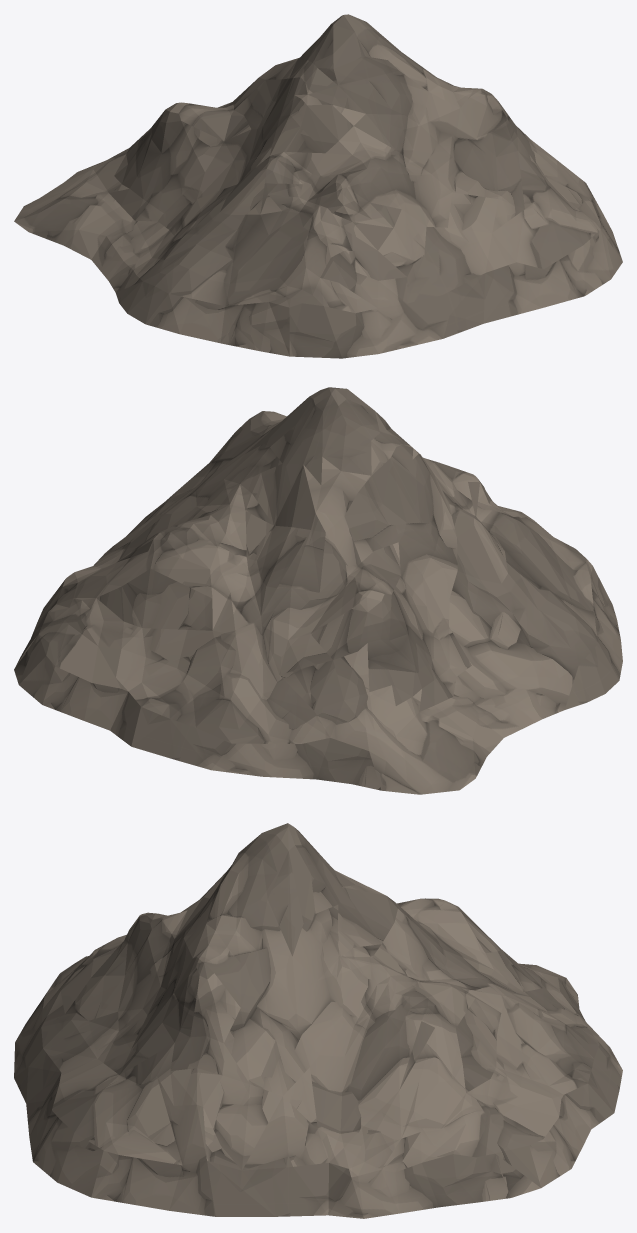
The picture shows the model from 3 angles, top to bottom: view 1: azimuth 30°, elevation 25°; view 2: azimuth 150°, elevation 25°; view 3: azimuth 270°, elevation 25°; orthographic projection. The views are drawn at different scales.
Visible parts, largest first — view 1: SM_Terrain_Mountain_01; view 2: SM_Terrain_Mountain_01; view 3: SM_Terrain_Mountain_01.
Boxes of the visible parts, left/top/right/bottom form: SM_Terrain_Mountain_01: left=14, top=14, right=622, bottom=358; SM_Terrain_Mountain_01: left=14, top=387, right=622, bottom=794; SM_Terrain_Mountain_01: left=14, top=823, right=622, bottom=1218.
Bounding box in the file's own units: 49.31 × 23.61 × 48.97.
Materials: 1 (1 with a texture image).
